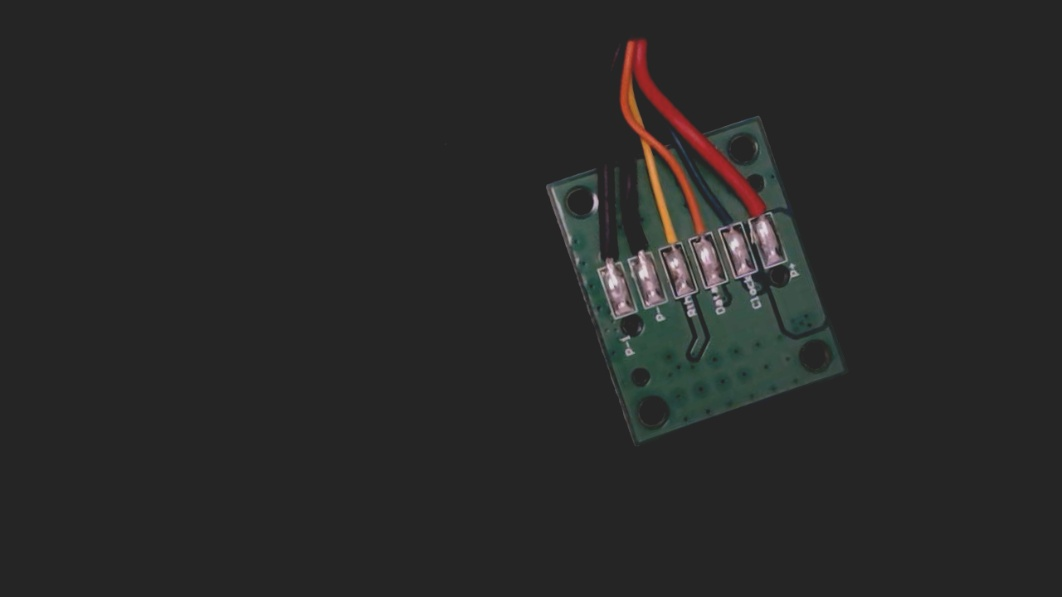Black: (612, 208, 659, 275)
Black1: (582, 226, 627, 288)
Green: (704, 188, 747, 245)
Orange: (677, 198, 720, 256)
Red: (734, 175, 777, 233)
Yellow: (641, 199, 689, 266)
